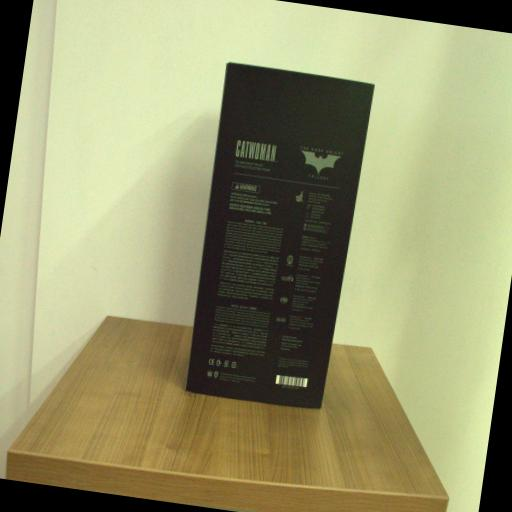catwoman: (178, 60, 376, 416)
